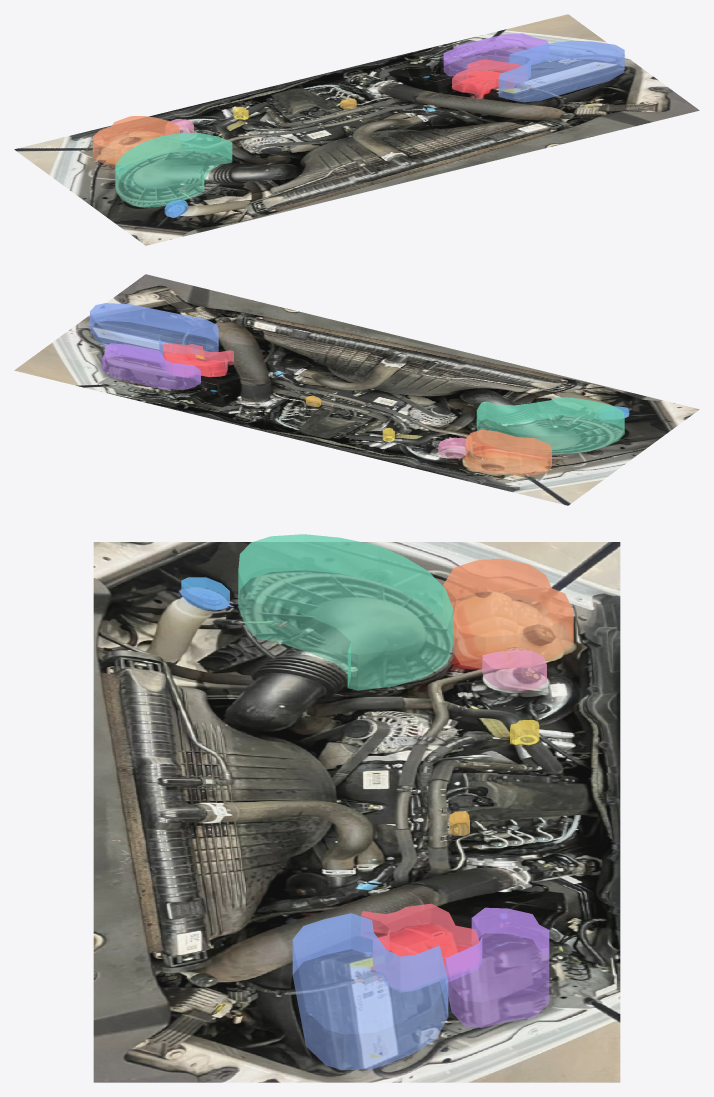
Rendered from ford-ranger-2022-photo-reference-inspection.glb.
3 views of the same model, one above another, from view 1: azimuth 30°, elevation 25°; view 2: azimuth 150°, elevation 25°; view 3: azimuth 270°, elevation 25° (orthographic). The views are drawn at different scales.
Parts seen in each view (by area): view 1: Source photograph, Air filter housing, 12 V battery, Coolant reservoir, Fuse box, Positive battery terminal; view 2: Source photograph, Air filter housing, 12 V battery, Coolant reservoir, Fuse box, Positive battery terminal, Brake fluid reservoir; view 3: Source photograph, Air filter housing, 12 V battery, Coolant reservoir, Fuse box, Positive battery terminal, Brake fluid reservoir, Washer filler.
Part boxes in pixels (x1,y1,x2,y2): Source photograph: [14, 14, 699, 245]; Air filter housing: [115, 132, 232, 207]; 12 V battery: [498, 40, 624, 102]; Coolant reservoir: [93, 116, 179, 164]; Fuse box: [443, 33, 548, 76]; Positive battery terminal: [452, 59, 523, 99]; Source photograph: [14, 274, 699, 505]; Air filter housing: [476, 397, 624, 454]; 12 V battery: [90, 303, 218, 355]; Coolant reservoir: [465, 429, 551, 475]; Fuse box: [102, 343, 200, 390]; Positive battery terminal: [162, 343, 233, 376]; Brake fluid reservoir: [438, 437, 467, 458]; Source photograph: [93, 542, 620, 1082]; Air filter housing: [238, 534, 453, 690]; 12 V battery: [292, 913, 448, 1070]; Coolant reservoir: [443, 558, 573, 668]; Fuse box: [445, 907, 549, 1027]; Positive battery terminal: [361, 903, 479, 969]; Brake fluid reservoir: [482, 650, 546, 690]; Washer filler: [181, 577, 229, 610].
Size of the model in its own units: 1 by 0.031 by 0.4117.
10 materials, 1 textured.
